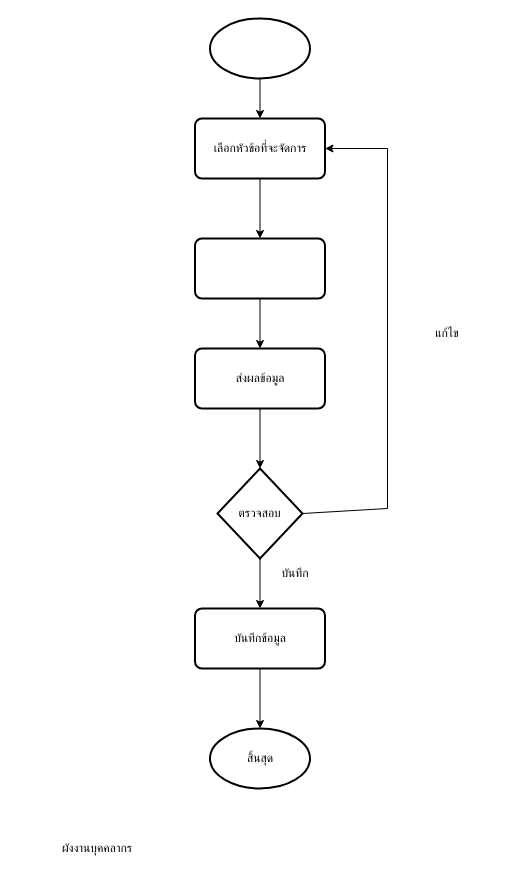
Image size: 524x885. Some labels were removed from this diagram. The shapes that lost their labels are listed below. From the top down, each one's centre as x and y in pixels, then its label:
At pixel 259 48: "เริ่มต้น".
At pixel 260 268: "จัดการข้อมูล(เพิ่ม,ลบ,แก้ไข)".
